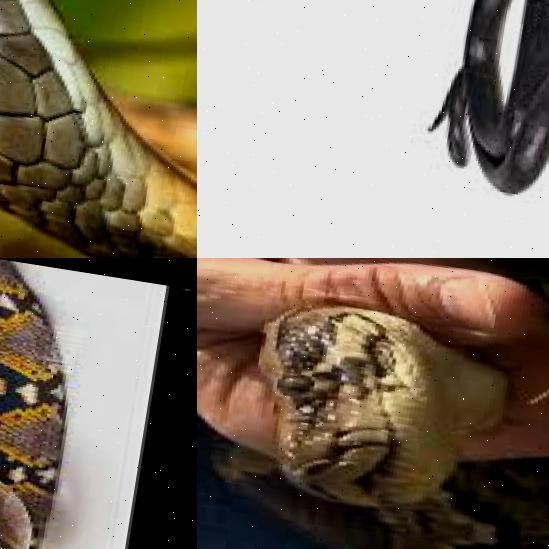3: (0, 258, 92, 549)
5: (0, 0, 197, 258)
snake: (222, 285, 528, 522)
